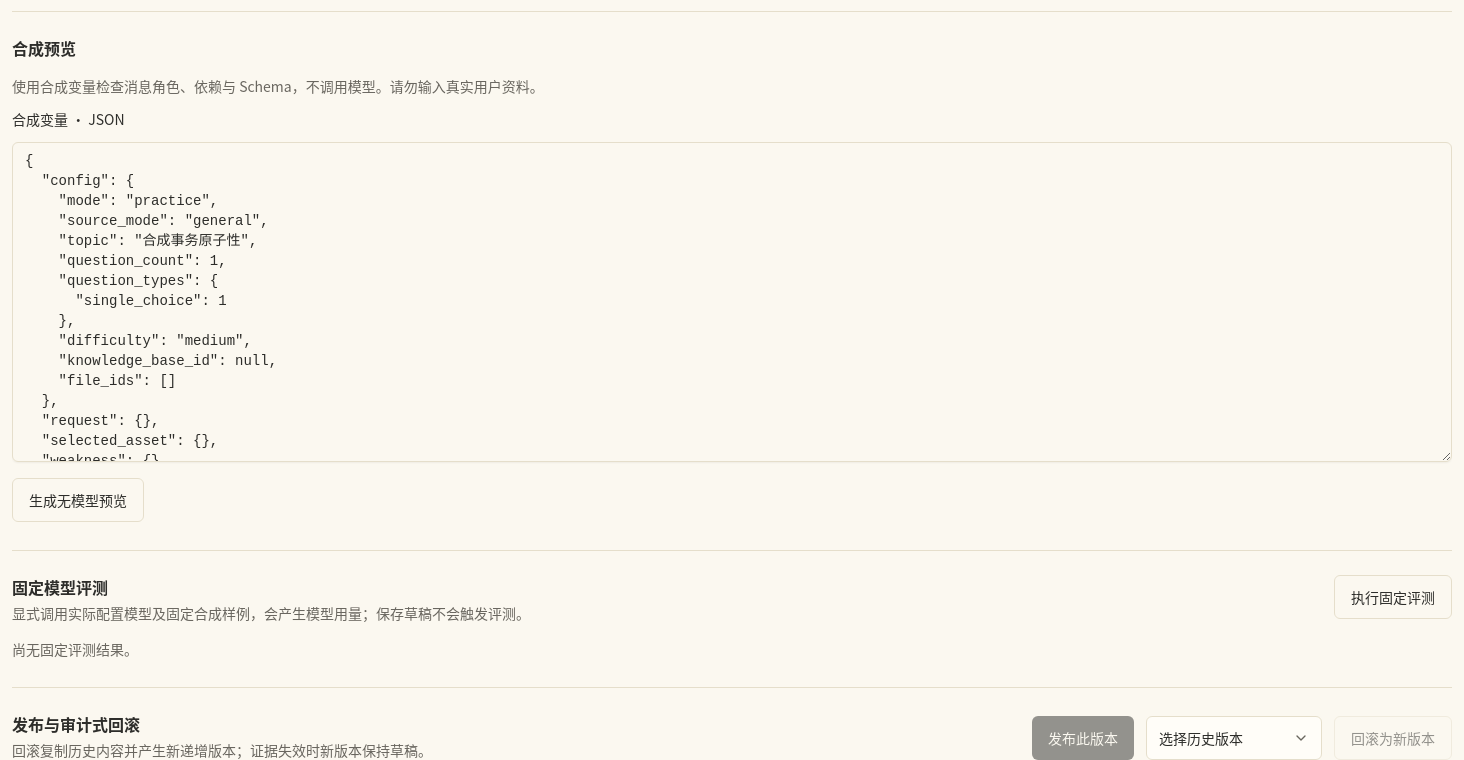
固定评测只在显式点击后发生，并展示完整指纹及失败状态
(page scrolled)
Step 1. Click the button "执行固定评测" → (1393, 597), box [1334, 575, 1452, 619]
(page scrolled)
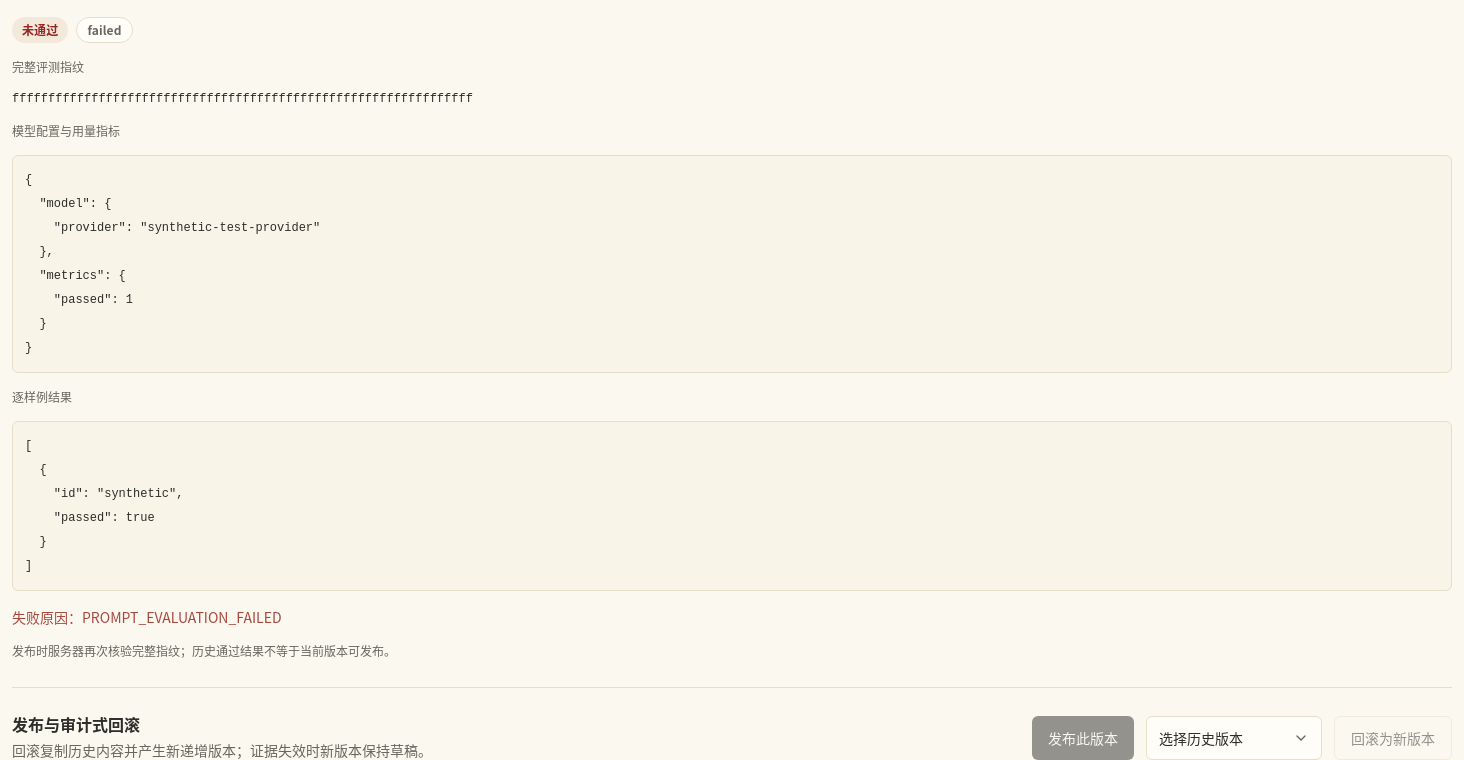
Expected: the button "发布此版本" is disabled, [1032, 716, 1134, 759]
Expected: the text "失败原因：PROMPT_EVALUATION_FAILED" is shown, [12, 607, 282, 627]
